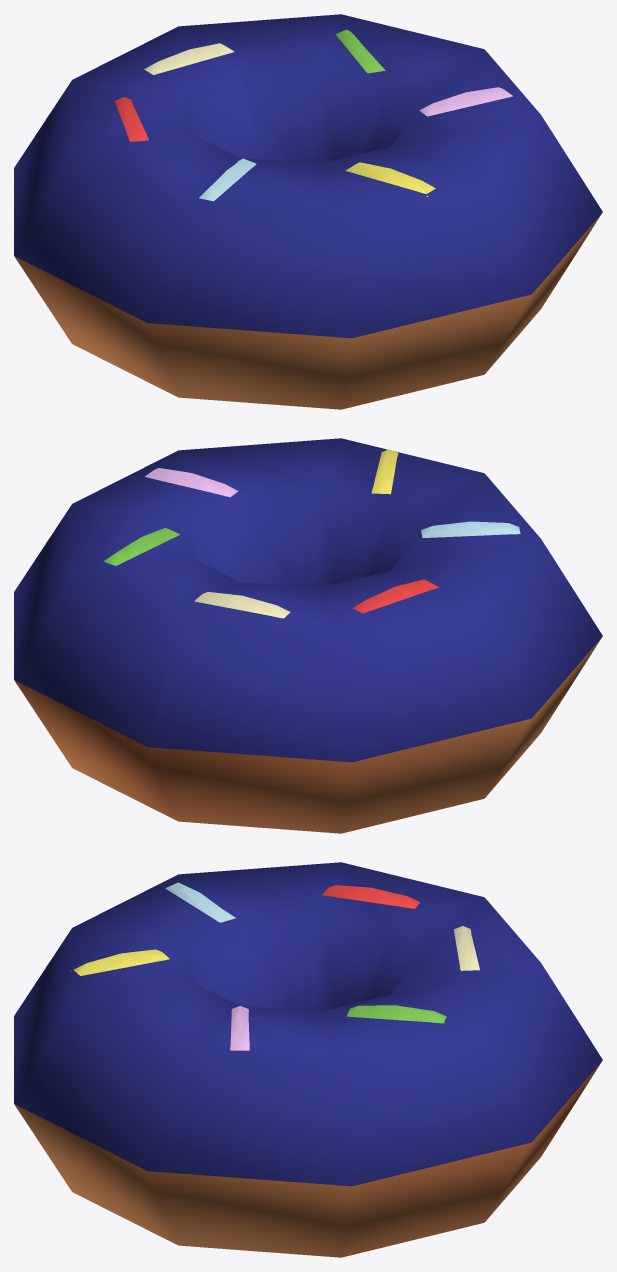
Rendered from Doughnut_B_5.FBX.
3 renders of one model, top to bottom at view 1: azimuth 30°, elevation 25°; view 2: azimuth 150°, elevation 25°; view 3: azimuth 270°, elevation 25°, orthographic.
Visible parts, largest first — view 1: Doughnut; view 2: Doughnut; view 3: Doughnut.
Boxes of the visible parts, left/top/right/bottom form: Doughnut: left=14, top=14, right=602, bottom=409; Doughnut: left=14, top=438, right=602, bottom=833; Doughnut: left=14, top=862, right=602, bottom=1257.
Size of the model in its own units: 52.77 by 19.96 by 51.97.
